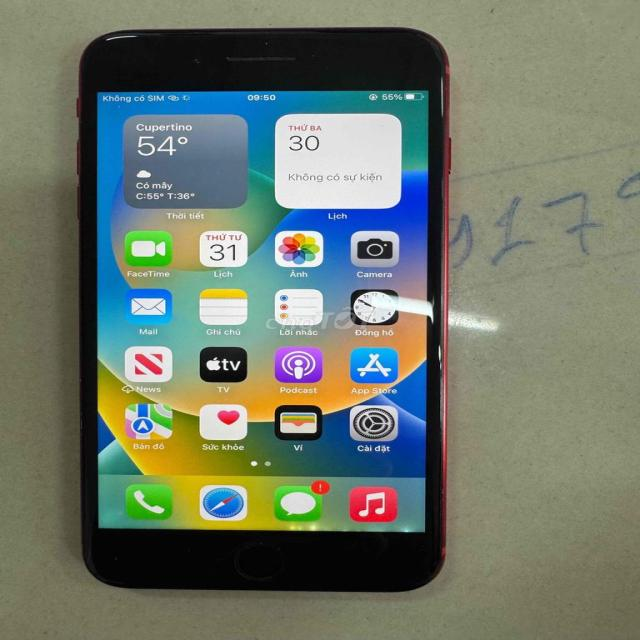gen_7_8: (64, 14, 450, 607)
